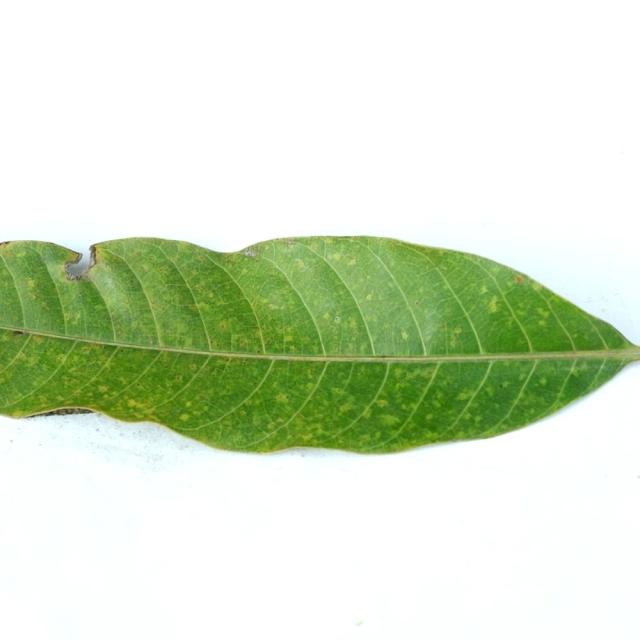Mango: (0, 237, 639, 452)
Powdery_Mildew: (434, 322, 467, 351), (147, 296, 173, 312), (487, 293, 506, 314), (379, 415, 401, 426), (275, 393, 289, 403), (340, 403, 354, 412), (26, 277, 37, 288), (294, 259, 306, 269), (193, 283, 205, 293), (32, 335, 45, 344), (182, 337, 193, 347), (330, 252, 342, 261), (376, 399, 388, 408), (531, 282, 543, 291), (457, 393, 470, 401), (479, 285, 489, 294), (452, 327, 462, 336), (347, 319, 357, 328), (284, 337, 294, 346), (539, 310, 550, 318), (217, 322, 228, 330), (3, 250, 14, 258), (322, 312, 331, 321), (401, 330, 409, 340), (538, 319, 548, 327), (253, 416, 261, 426), (268, 303, 279, 310), (81, 345, 92, 352), (347, 258, 356, 266), (538, 377, 547, 385), (518, 373, 527, 381), (127, 400, 137, 407), (98, 385, 108, 392), (180, 414, 190, 421), (267, 422, 277, 429), (278, 324, 288, 331), (365, 293, 373, 301), (474, 416, 482, 424), (501, 381, 510, 388), (205, 293, 214, 300), (57, 355, 66, 362), (325, 238, 335, 244), (240, 268, 248, 275), (175, 375, 183, 382), (239, 339, 247, 346), (189, 364, 197, 371), (425, 414, 433, 421), (75, 312, 82, 320), (264, 339, 271, 346), (185, 402, 193, 408), (223, 357, 231, 363), (288, 346, 295, 352), (57, 396, 65, 401), (440, 323, 446, 329)
